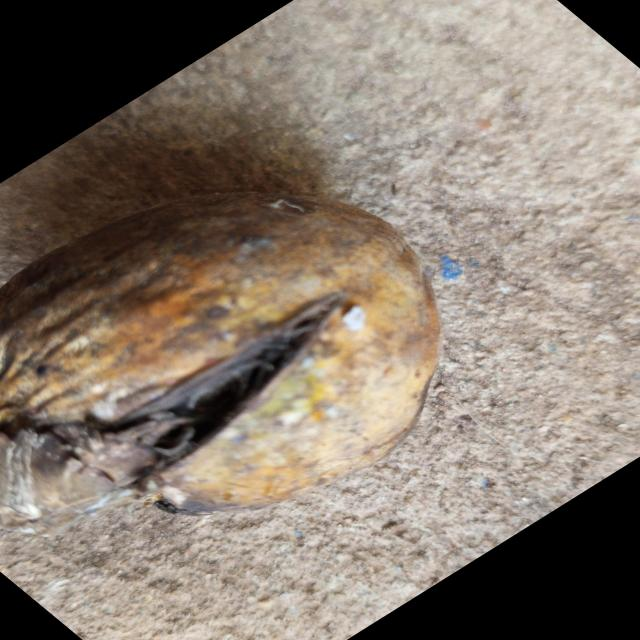damaged: (0, 173, 443, 521)
